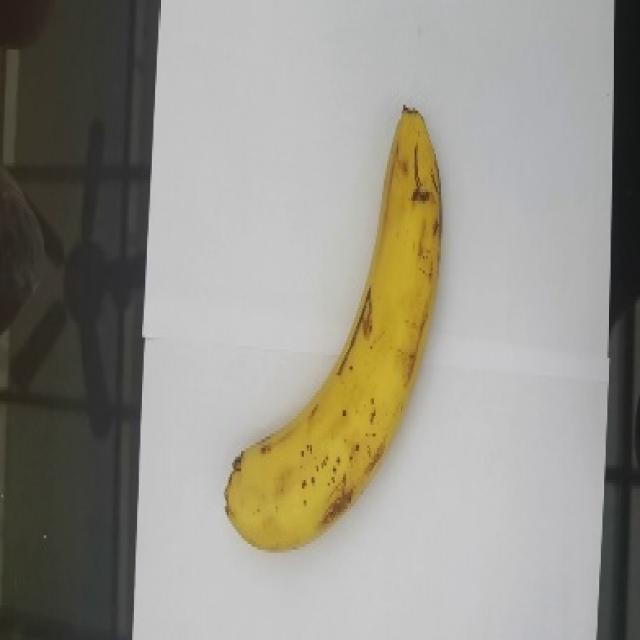Banana: (221, 103, 451, 556)
